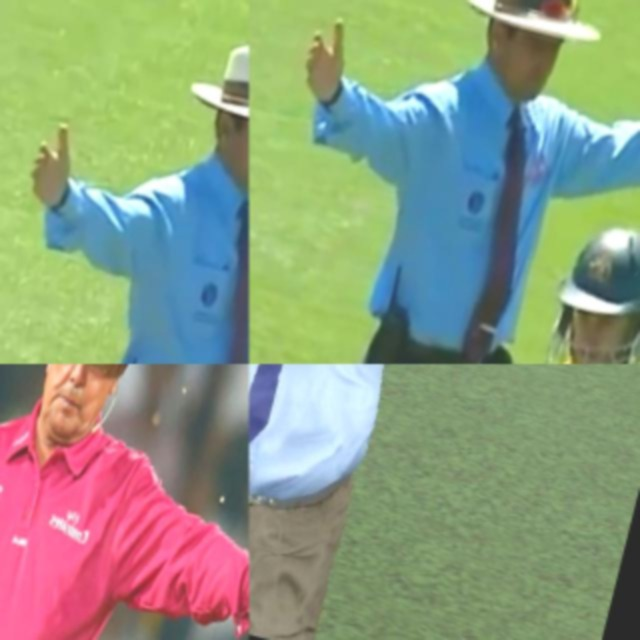No_Ball: (249, 364, 640, 640), (0, 364, 249, 640)
Wide: (249, 0, 640, 364), (0, 0, 249, 364)
